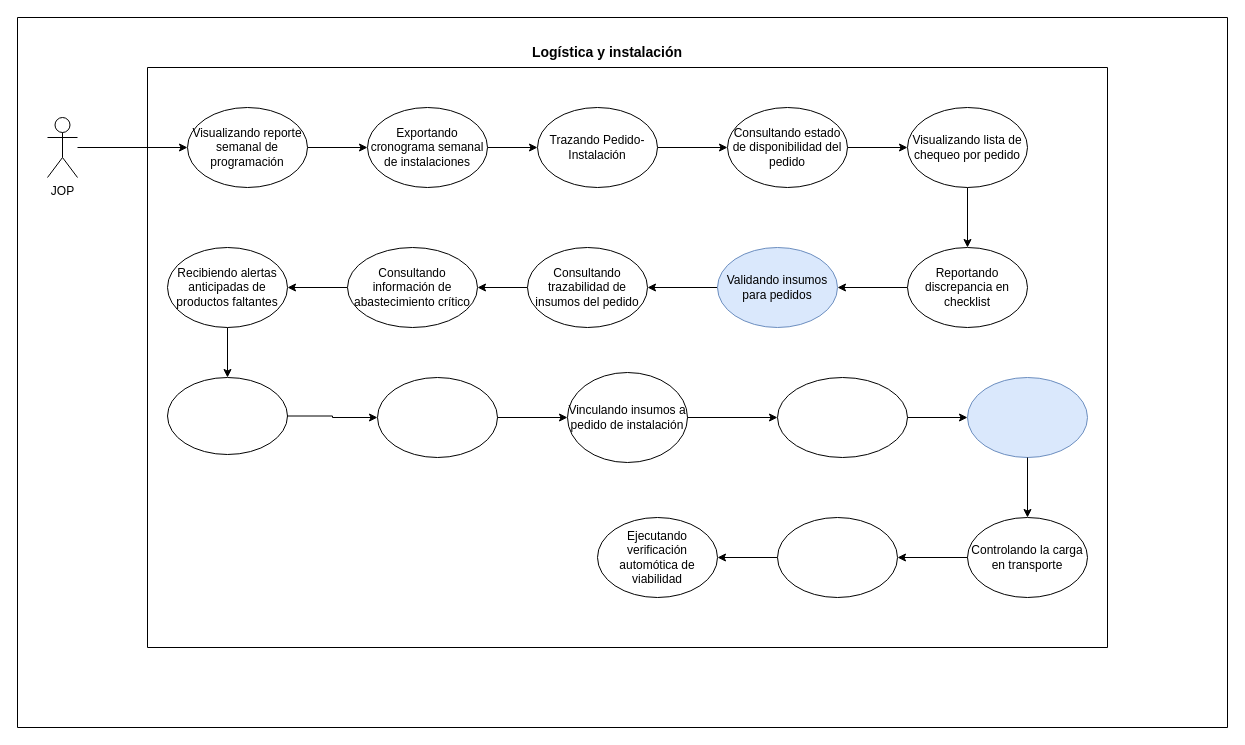
Image size: 1245x745. Some labels were removed from this diagram. Here are the shapes that lost their labels. From the top down, the centre of each, then its label:
point (227, 415): Generando solicitud de compra de emergencia
point (437, 417): Consultando detalle de faltantes por instalación
point (842, 417): Vinculando recepción de insumo especial a pedido
point (1027, 417): Reservando stock para instalación confirmada
point (837, 557): Confirmando carga y salida de transporte
